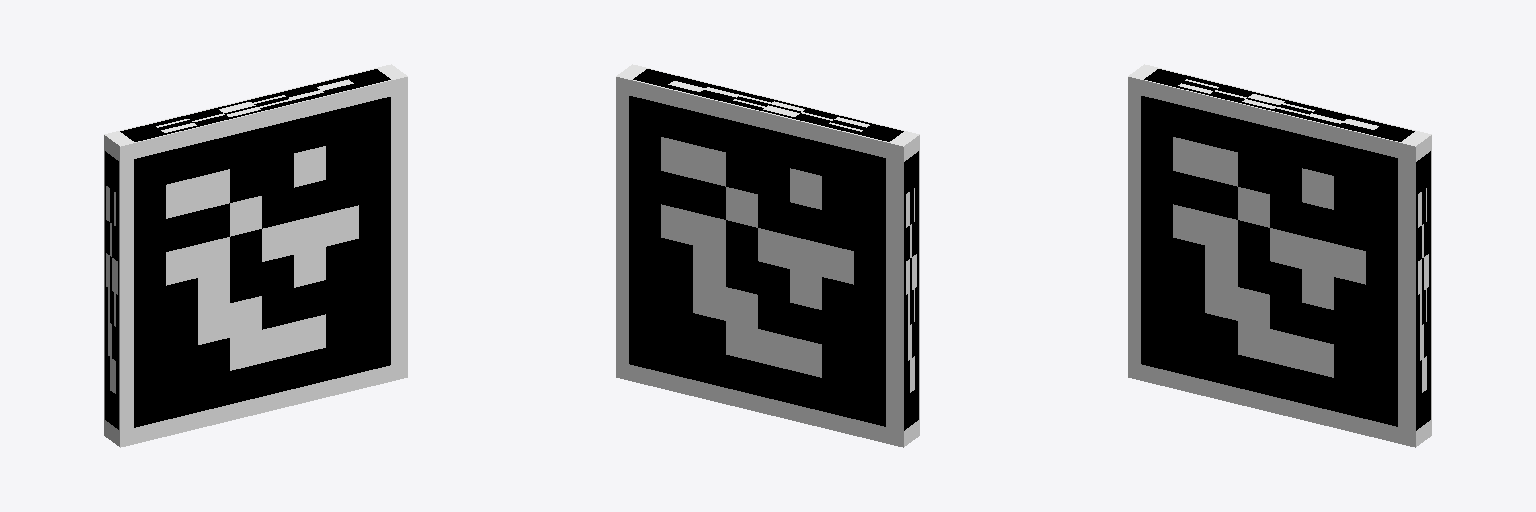
3 views of the same model, side by side, from view 1: azimuth 30°, elevation 25°; view 2: azimuth 150°, elevation 25°; view 3: azimuth 330°, elevation 25° (orthographic).
Visible parts, largest first — view 1: Cube; view 2: Cube; view 3: Cube.
Part boxes in pixels (x1,y1,x2,y2): Cube: (104, 64, 407, 447); Cube: (616, 64, 919, 447); Cube: (1128, 64, 1431, 447).
Size of the model in its own units: 2 by 2 by 0.2.
Materials: 1 (1 with a texture image).